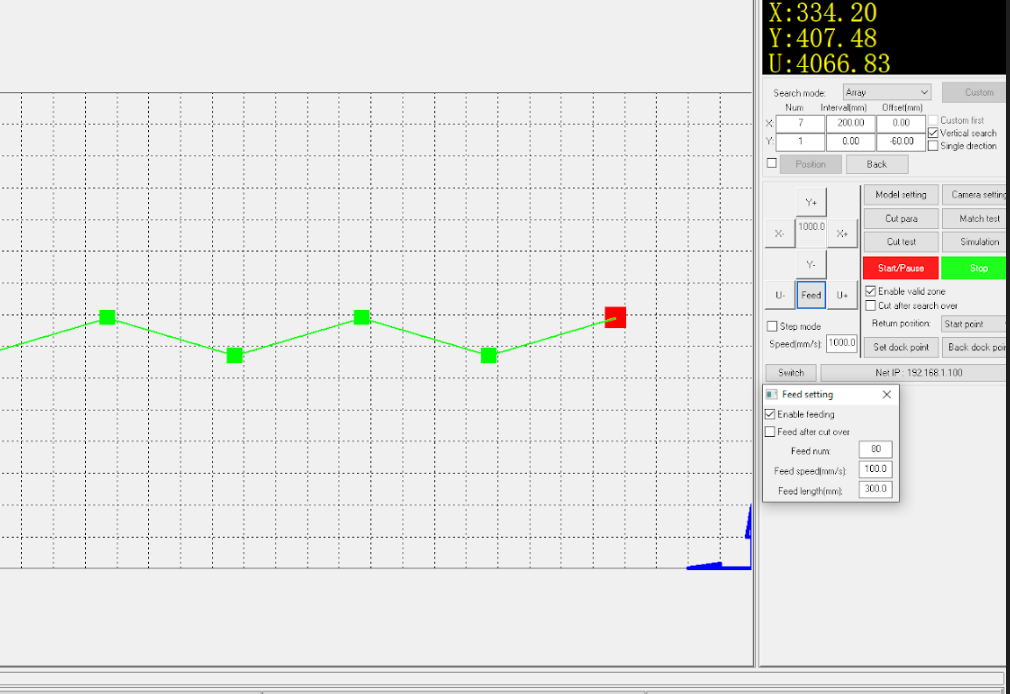start: (862, 255, 939, 279)
timer: (876, 100, 925, 151)
